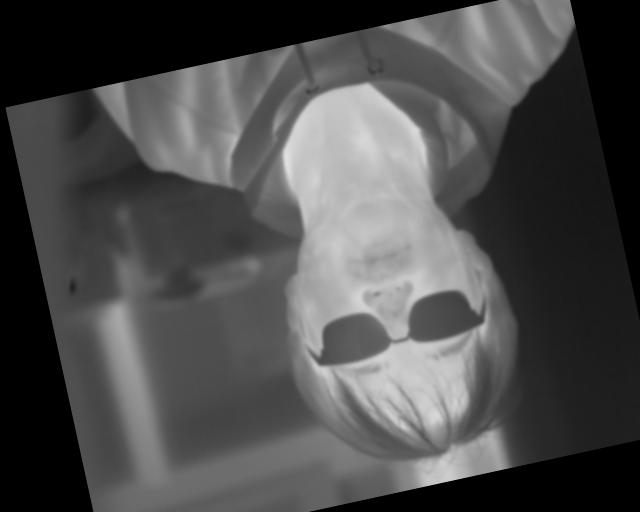face: (257, 168, 545, 488)
